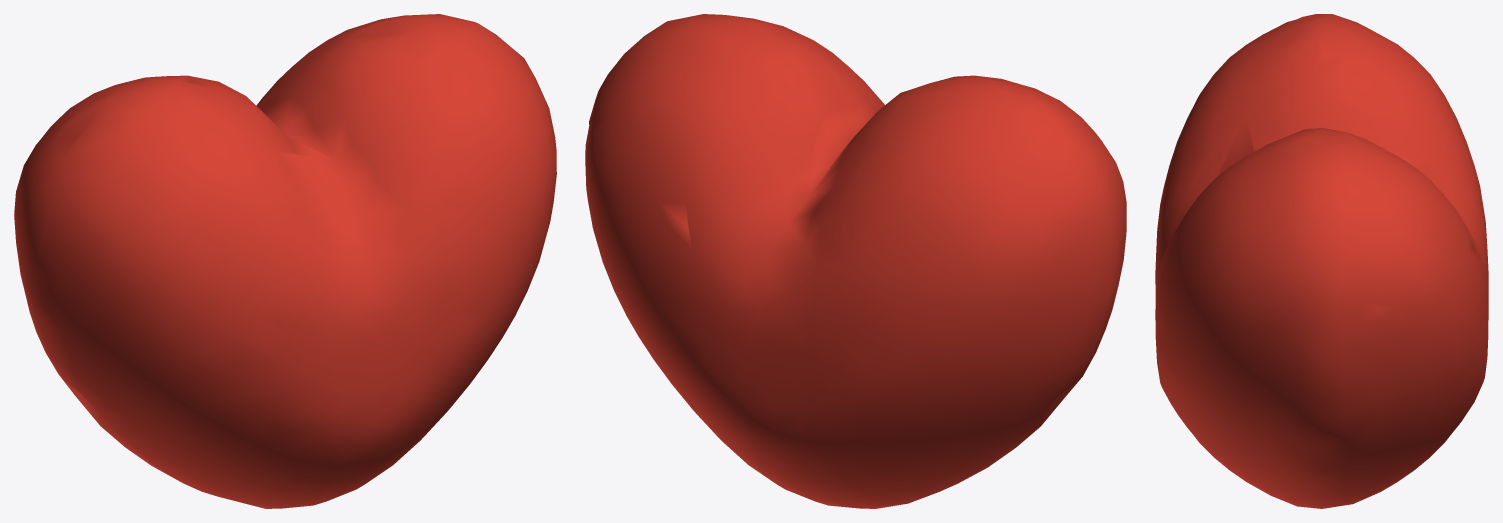
The model's file is Heart.fbx.
The picture shows the model from 3 angles, left to right: view 1: azimuth 30°, elevation 25°; view 2: azimuth 150°, elevation 25°; view 3: azimuth 270°, elevation 25°; orthographic projection. The views are drawn at different scales.
Visible parts, largest first — view 1: Heart; view 2: Heart; view 3: Heart.
Part boxes in pixels (bbox=[...]): Heart: bbox=[14, 14, 556, 508]; Heart: bbox=[585, 14, 1126, 508]; Heart: bbox=[1155, 14, 1488, 508].
Bounding box in the file's own units: 23.27 × 19.28 × 14.19.
